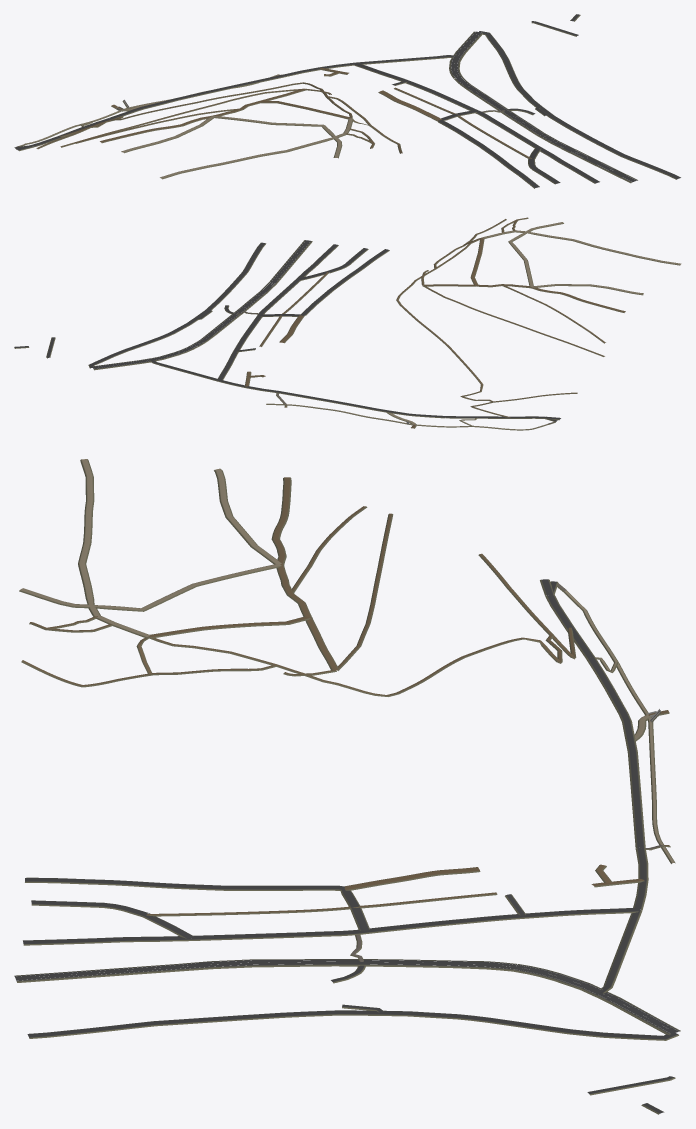
The picture shows the model from 3 angles, top to bottom: view 1: azimuth 30°, elevation 25°; view 2: azimuth 150°, elevation 25°; view 3: azimuth 270°, elevation 25°; orthographic projection. The views are drawn at different scales.
Visible parts, largest first — view 1: roads; view 2: roads; view 3: roads.
Part boxes in pixels (x1,y1,x2,y2): roads: [14, 14, 680, 188]; roads: [14, 217, 681, 430]; roads: [14, 459, 680, 1114].
Bounding box in the file's own units: 701 × 125 × 414.
